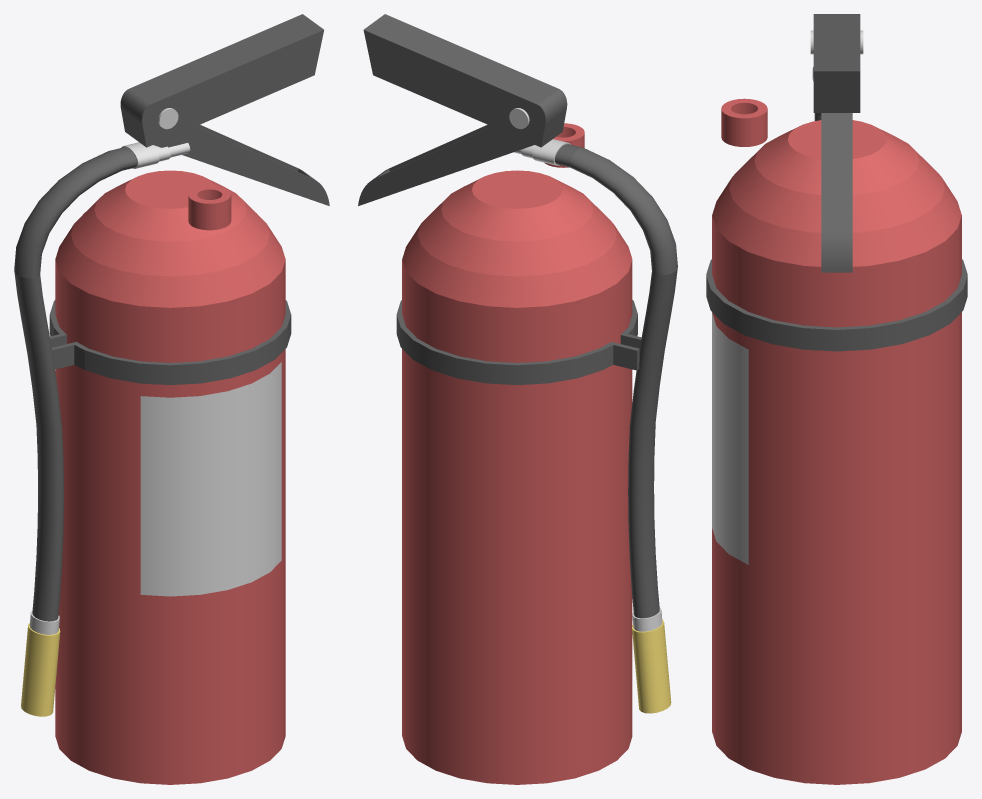
File: fireextinguisher.fbx
3 views of the same model, side by side, from view 1: azimuth 30°, elevation 25°; view 2: azimuth 150°, elevation 25°; view 3: azimuth 270°, elevation 25° (orthographic). The views are drawn at different scales.
Visible parts, largest first — view 1: instance_2, instance_2.001, instance_2.002, instance_0.003, instance_1.001, instance_3, instance_1, instance_0.007, group_2.002, instance_0; view 2: instance_2, instance_2.002, instance_0.003, instance_1.001, instance_3, instance_1, instance_0.007, group_2.002; view 3: instance_2, instance_2.002, instance_2.001, instance_3, instance_1, instance_1.001, group_2.002.
Part boxes in pixels (x1,y1,x2,y2): instance_2: (55, 260, 285, 784); instance_2.001: (140, 362, 281, 596); instance_2.002: (55, 170, 285, 307); instance_0.003: (14, 147, 137, 621); instance_1.001: (120, 14, 323, 147); instance_3: (49, 300, 291, 384); instance_1: (153, 124, 329, 205); instance_0.007: (21, 623, 60, 716); group_2.002: (188, 185, 231, 230); instance_0: (121, 142, 159, 168); instance_2: (402, 259, 632, 784); instance_2.002: (402, 170, 632, 307); instance_0.003: (555, 144, 677, 618); instance_1.001: (363, 14, 567, 147); instance_3: (396, 300, 641, 385); instance_1: (358, 124, 534, 206); instance_0.007: (632, 620, 671, 713); group_2.002: (544, 123, 584, 167); instance_2: (712, 215, 961, 784); instance_2.002: (712, 120, 961, 266); instance_2.001: (712, 312, 748, 564); instance_3: (706, 259, 967, 351); instance_1: (821, 113, 852, 272); instance_1.001: (813, 14, 860, 112); group_2.002: (721, 98, 767, 146).
Bounding box in the file's own units: 190 × 400 × 129.
